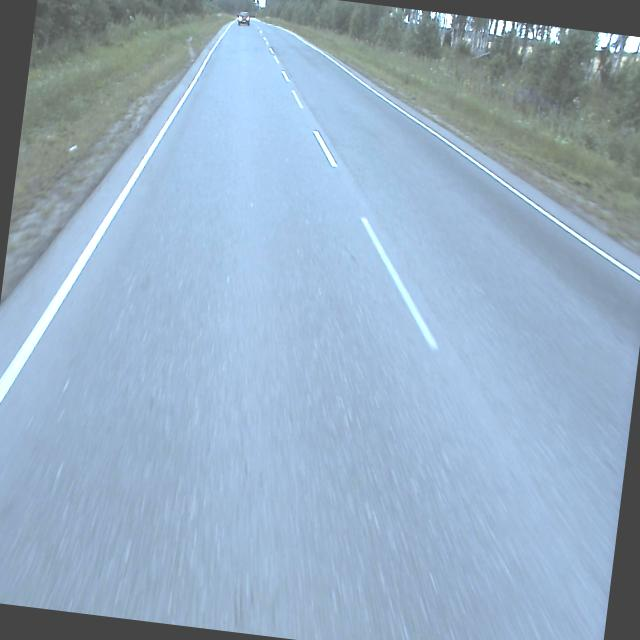road: (0, 17, 640, 640)
